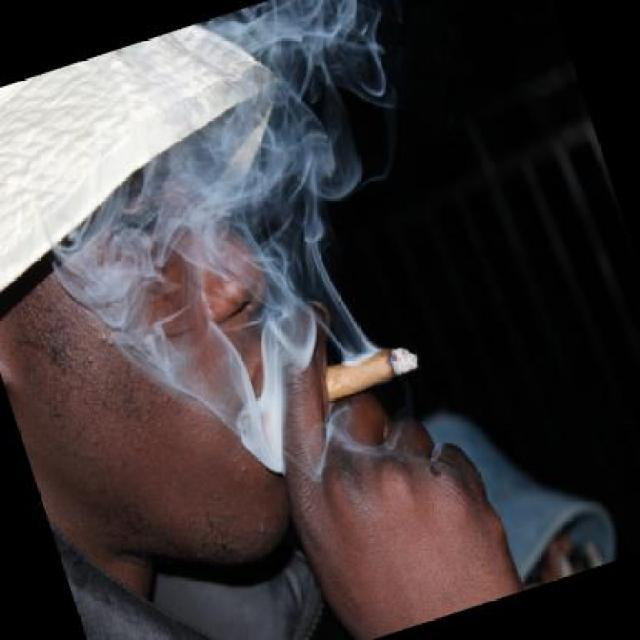cigarette: (311, 336, 424, 402)
